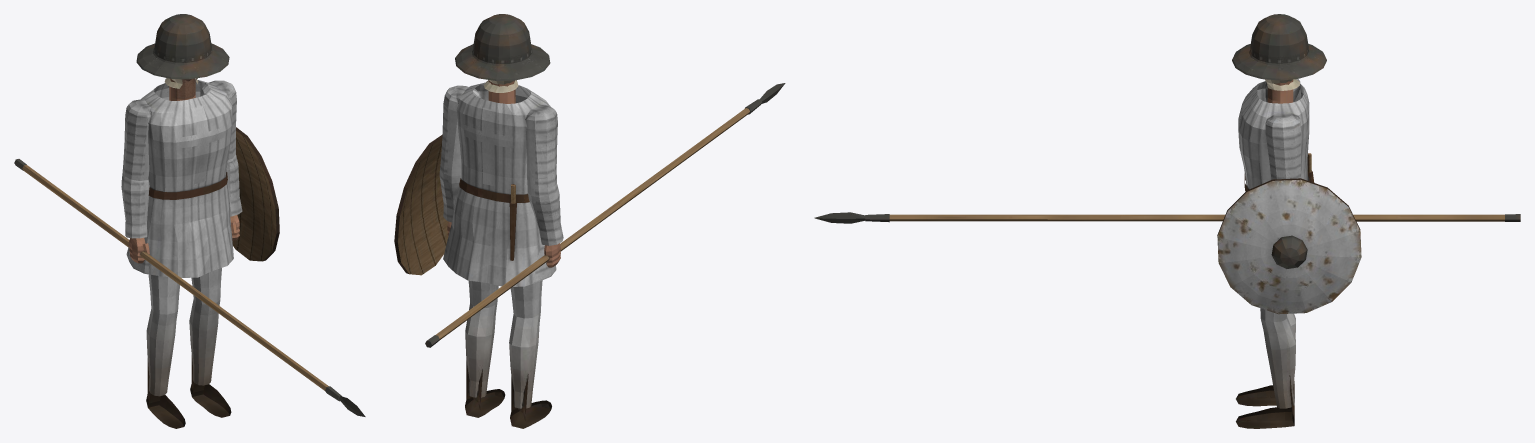
Rendered from hobelars.glb.
The picture shows the model from 3 angles, left to right: view 1: azimuth 30°, elevation 25°; view 2: azimuth 150°, elevation 25°; view 3: azimuth 270°, elevation 25°; orthographic projection. The views are drawn at different scales.
Parts seen in each view (by area): view 1: hobelars_LOD0; view 2: hobelars_LOD0; view 3: hobelars_LOD0.
Part boxes in pixels (left/top/right/bottom): hobelars_LOD0: left=14, top=14, right=365, bottom=428; hobelars_LOD0: left=394, top=14, right=785, bottom=428; hobelars_LOD0: left=814, top=14, right=1520, bottom=428.
Size of what is drawn, in the model's own units: 0.7117 by 1.8 by 2.91.
1 material, 1 textured.
